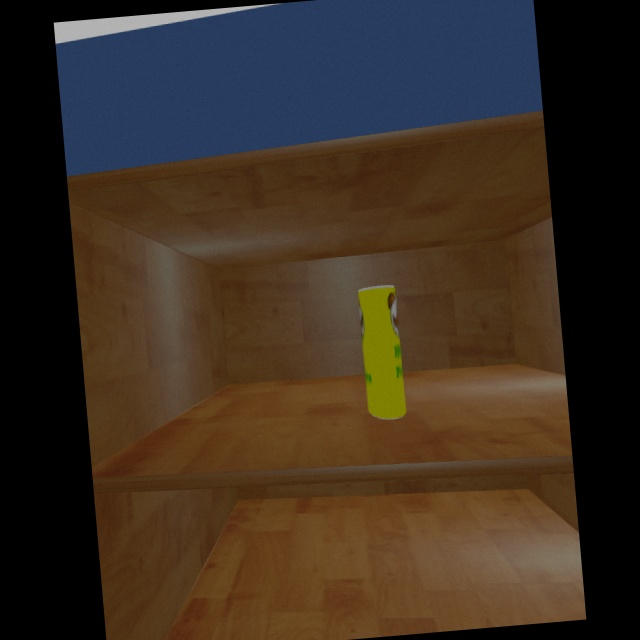chipsdose_gelb: (358, 284, 406, 419)
